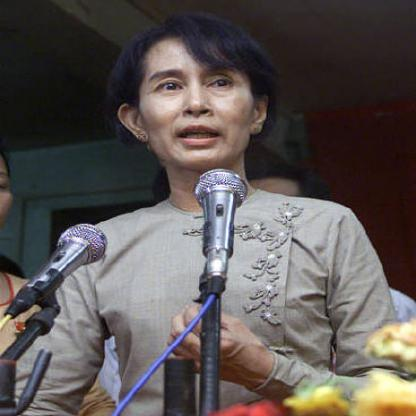face: (134, 17, 260, 170)
